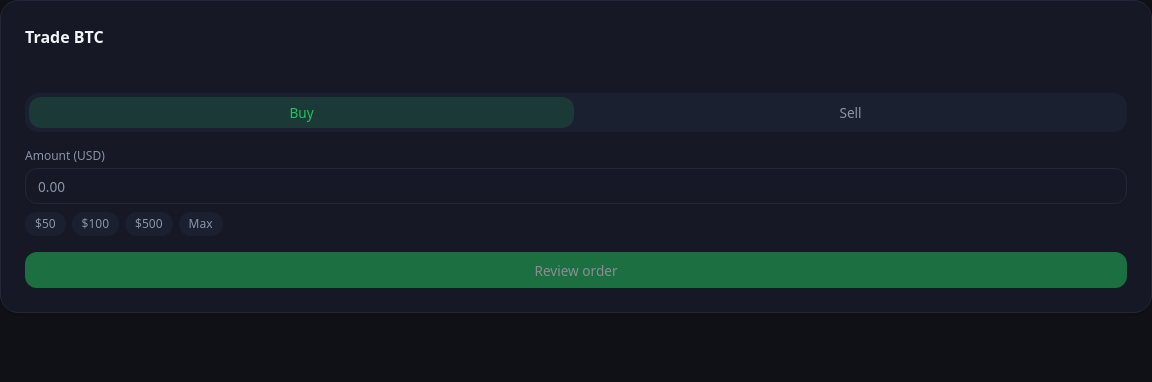
it: OrderTicket › quick chip fills the amount
Step 1. Click the button "$100" → (95, 224), box [72,212,119,236]
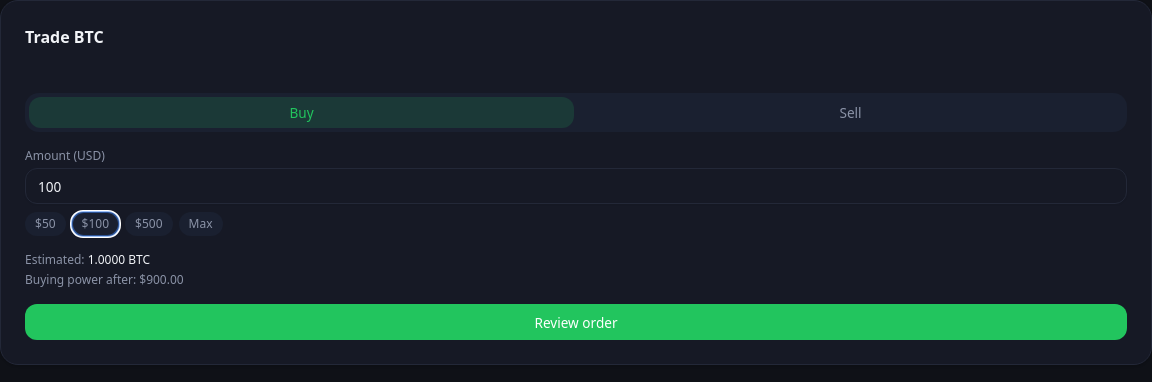
Expected: the field labelled "Amount (USD)" holds "100", [25,168,1127,204]
